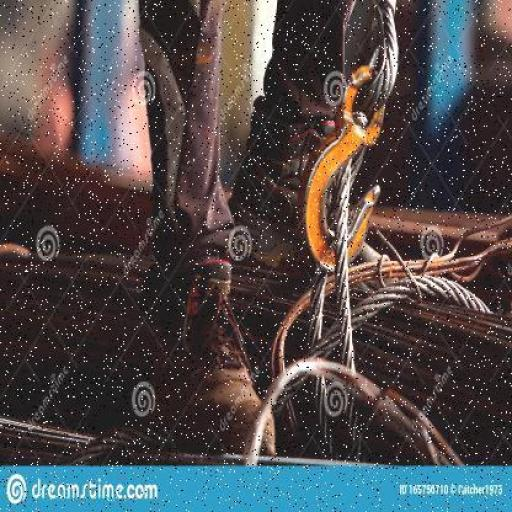safety_shoe: (226, 93, 392, 277), (140, 261, 276, 457)
